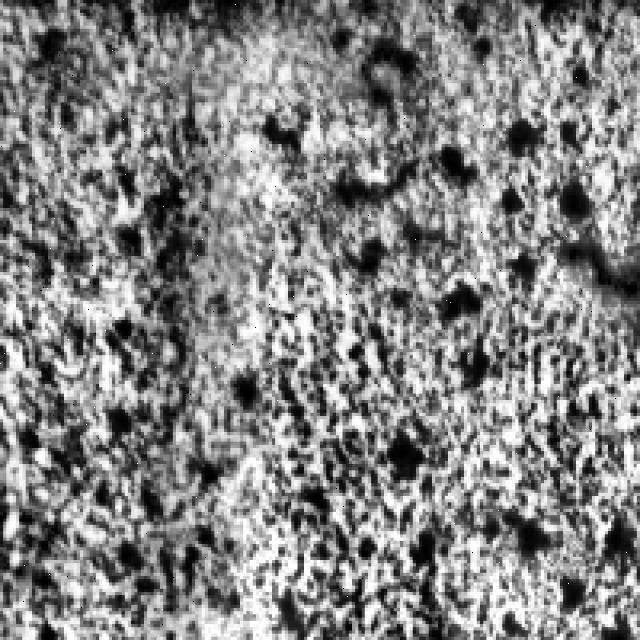Rolled_in_Scale: (224, 29, 637, 637), (55, 45, 326, 628)
